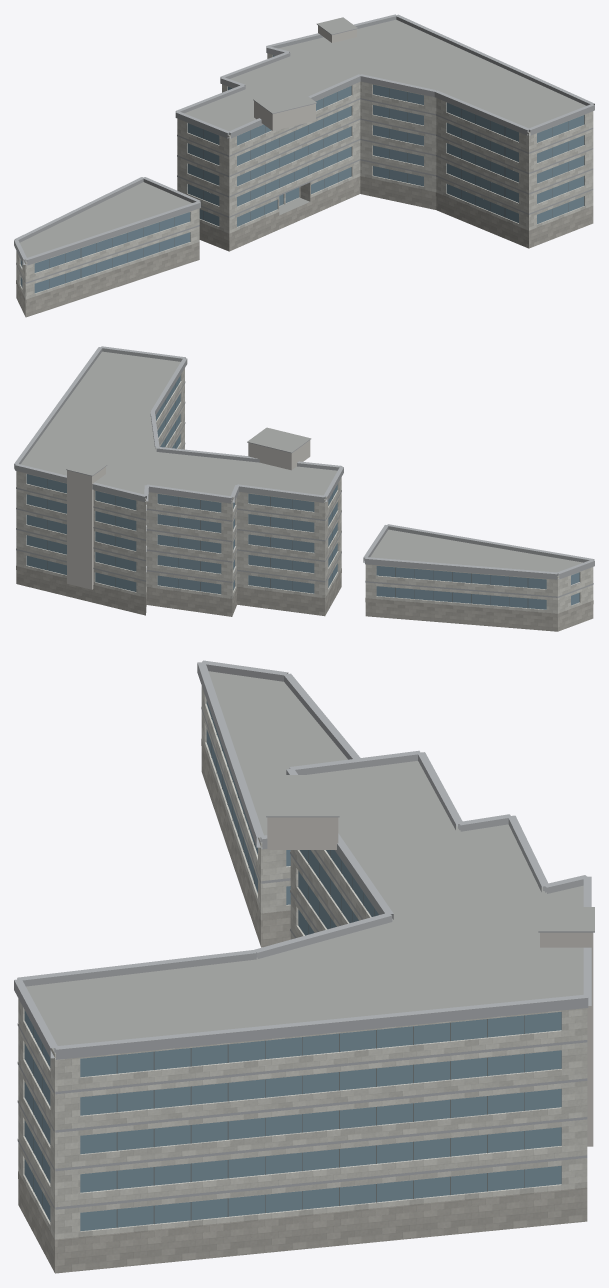
3 views of the same model, one above another, from view 1: azimuth 30°, elevation 25°; view 2: azimuth 150°, elevation 25°; view 3: azimuth 270°, elevation 25° (orthographic). The views are drawn at different scales.
Visible parts, largest first — view 1: pappalardoCenterE21__wall, pappalardoCenterE21__roof, pappalardoCenterE21__glass, pappalardoCenterE21__trim, pappalardoCenterE21__base, pappalardoCenterE21__wall2, pappalardoCenterE21__frame; view 2: pappalardoCenterE21__wall, pappalardoCenterE21__roof, pappalardoCenterE21__glass, pappalardoCenterE21__trim, pappalardoCenterE21__base, pappalardoCenterE21__wall2, pappalardoCenterE21__frame; view 3: pappalardoCenterE21__roof, pappalardoCenterE21__wall, pappalardoCenterE21__glass, pappalardoCenterE21__trim, pappalardoCenterE21__base, pappalardoCenterE21__wall2, pappalardoCenterE21__frame.
Boxes of the visible parts, left/top/right/bottom form: pappalardoCenterE21__wall: left=16, top=53, right=593, bottom=302; pappalardoCenterE21__roof: left=20, top=17, right=585, bottom=262; pappalardoCenterE21__glass: left=20, top=55, right=584, bottom=293; pappalardoCenterE21__trim: left=14, top=14, right=594, bottom=283; pappalardoCenterE21__base: left=16, top=176, right=593, bottom=317; pappalardoCenterE21__wall2: left=254, top=25, right=356, bottom=130; pappalardoCenterE21__frame: left=49, top=88, right=568, bottom=288; pappalardoCenterE21__wall: left=16, top=368, right=593, bottom=617; pappalardoCenterE21__roof: left=20, top=351, right=582, bottom=576; pappalardoCenterE21__glass: left=26, top=375, right=579, bottom=609; pappalardoCenterE21__trim: left=14, top=346, right=594, bottom=597; pappalardoCenterE21__base: left=16, top=566, right=593, bottom=631; pappalardoCenterE21__wall2: left=67, top=440, right=310, bottom=589; pappalardoCenterE21__frame: left=47, top=383, right=528, bottom=607; pappalardoCenterE21__roof: left=26, top=671, right=594, bottom=1054; pappalardoCenterE21__wall: left=18, top=686, right=587, bottom=1245; pappalardoCenterE21__glass: left=24, top=701, right=561, bottom=1231; pappalardoCenterE21__trim: left=14, top=660, right=594, bottom=1209; pappalardoCenterE21__base: left=18, top=739, right=587, bottom=1273; pappalardoCenterE21__wall2: left=267, top=817, right=593, bottom=1146; pappalardoCenterE21__frame: left=33, top=714, right=524, bottom=1227.
Size of the model in its own units: 98.75 by 23.7 by 49.24.
Materials: 8 (2 with a texture image).
